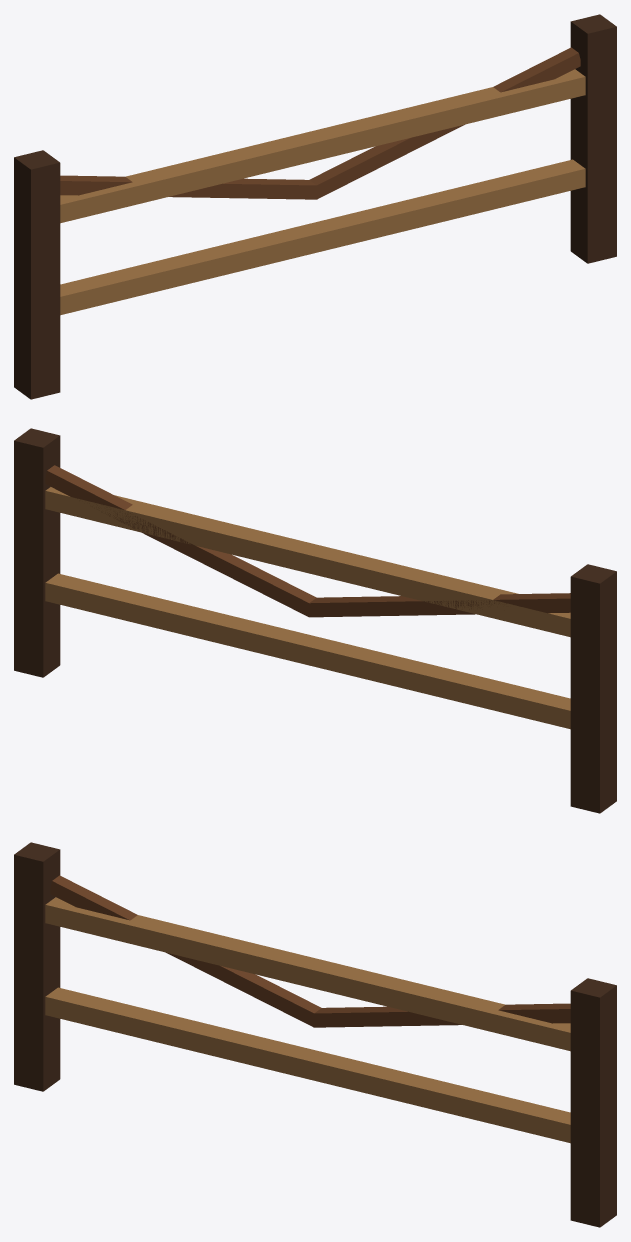
File: Desert_RailFence_Standard.glb
3 renders of one model, top to bottom at view 1: azimuth 30°, elevation 25°; view 2: azimuth 150°, elevation 25°; view 3: azimuth 330°, elevation 25°, orthographic.
Parts seen in each view (by area): view 1: Desert_RailFence_Standard; view 2: Desert_RailFence_Standard; view 3: Desert_RailFence_Standard.
Part boxes in pixels (x1=…): Desert_RailFence_Standard: x1=14, y1=14, x2=616, y2=399; Desert_RailFence_Standard: x1=14, y1=428, x2=616, y2=813; Desert_RailFence_Standard: x1=14, y1=842, x2=616, y2=1227.
Size of the model in its own units: 4 by 1.5 by 0.2.
